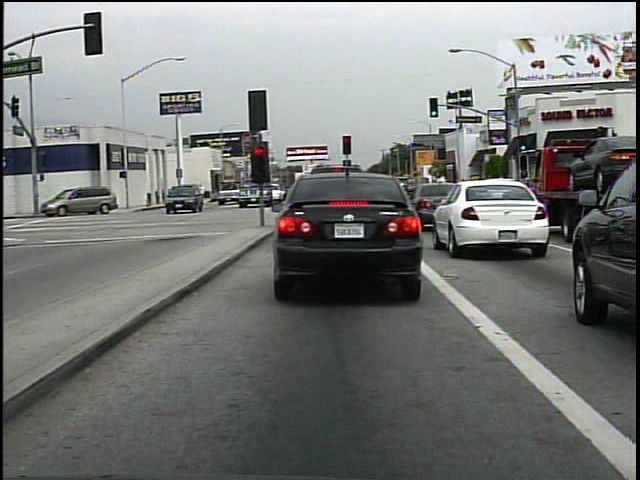person: (191, 179, 212, 204)
